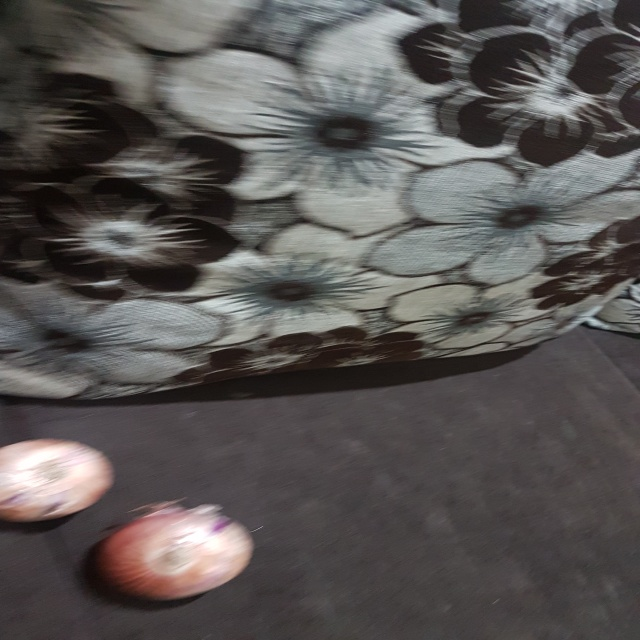onion: (96, 496, 269, 604), (1, 430, 113, 536)
